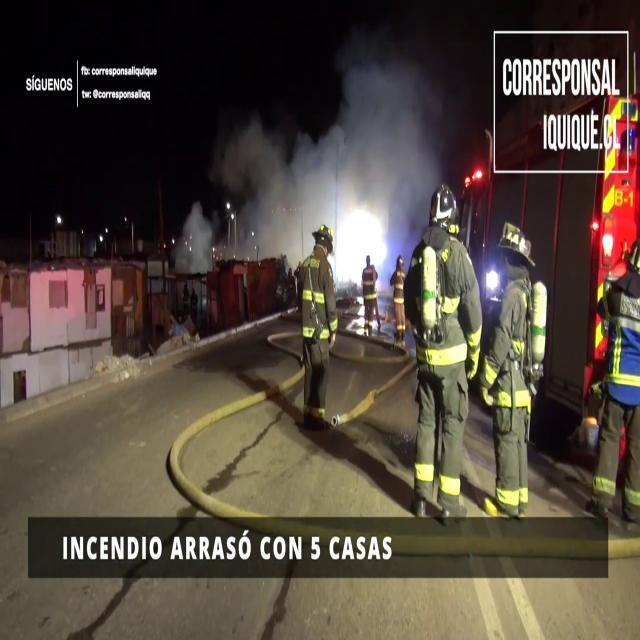Smoke: (216, 7, 447, 248), (181, 195, 215, 265)
